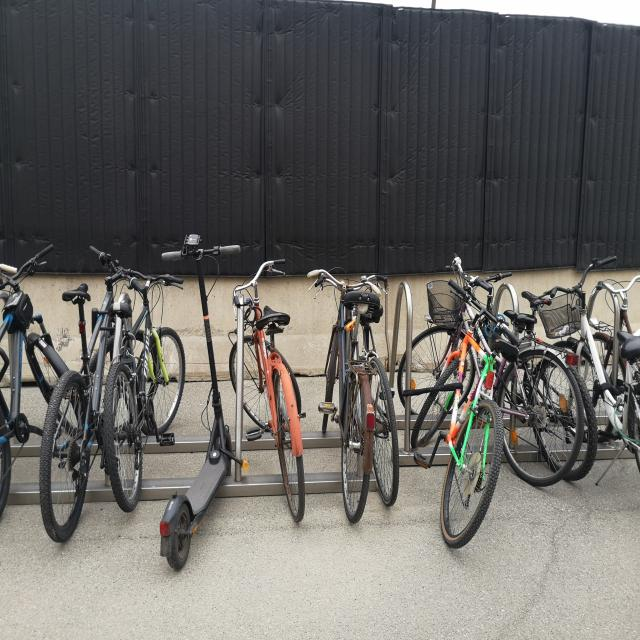Bicycle: (41, 246, 146, 560), (397, 265, 503, 555), (162, 224, 248, 568), (471, 283, 602, 494), (473, 295, 580, 518), (102, 249, 190, 513), (0, 229, 70, 515), (309, 249, 375, 552), (556, 264, 640, 492), (240, 242, 298, 547), (354, 260, 398, 542), (593, 242, 640, 368)
